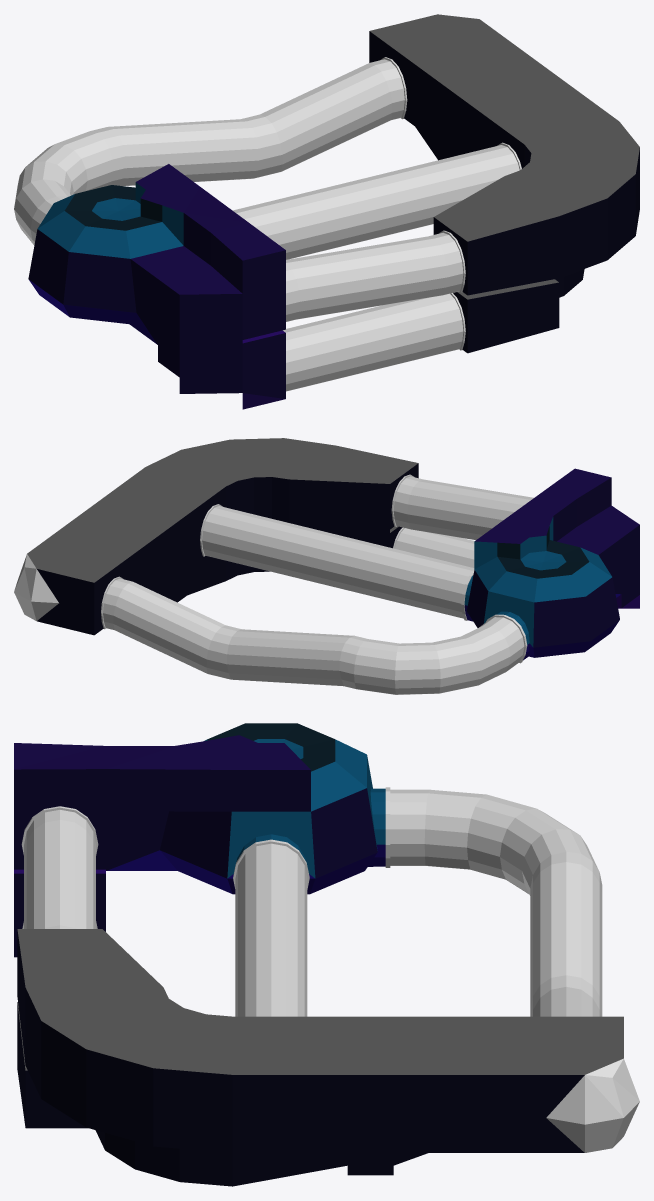
File: Underwater.fbx
The picture shows the model from 3 angles, top to bottom: view 1: azimuth 30°, elevation 25°; view 2: azimuth 150°, elevation 25°; view 3: azimuth 270°, elevation 25°; orthographic projection. The views are drawn at different scales.
Parts seen in each view (by area): view 1: Hallway, Main_room, Glass, Glass_4, Glass_3, Glass_2, Support, Support_4, Support_2, Support_3; view 2: Hallway, Main_room, Glass, Glass_4, Glass_2, Support, Support_4, Hallway_glass, Glass_3, Support_2, Support_3; view 3: Hallway, Main_room, Glass, Support, Glass_4, Hallway_glass, Support_4, Glass_2, Support_2.
Boxes of the visible parts, x1=… form: Hallway: x1=369, y1=14, x2=639, y2=353; Main_room: x1=28, y1=164, x2=285, y2=409; Glass: x1=14, y1=68, x2=404, y2=245; Glass_4: x1=244, y1=153, x2=519, y2=259; Glass_3: x1=286, y1=299, x2=463, y2=391; Glass_2: x1=286, y1=241, x2=463, y2=321; Support: x1=22, y1=59, x2=400, y2=244; Support_4: x1=233, y1=145, x2=512, y2=259; Support_2: x1=286, y1=232, x2=459, y2=321; Support_3: x1=283, y1=293, x2=459, y2=391; Hallway: x1=27, y1=438, x2=418, y2=635; Main_room: x1=464, y1=468, x2=639, y2=660; Glass: x1=103, y1=586, x2=524, y2=694; Glass_4: x1=202, y1=513, x2=467, y2=618; Glass_2: x1=393, y1=484, x2=523, y2=539; Support: x1=106, y1=578, x2=517, y2=694; Support_4: x1=206, y1=506, x2=474, y2=618; Hallway_glass: x1=14, y1=554, x2=58, y2=621; Glass_3: x1=395, y1=533, x2=474, y2=567; Support_2: x1=397, y1=476, x2=533, y2=539; Support_3: x1=401, y1=528, x2=474, y2=550; Hallway: x1=17, y1=929, x2=623, y2=1186; Main_room: x1=14, y1=723, x2=385, y2=957; Glass: x1=390, y1=802, x2=602, y2=1016; Support: x1=390, y1=789, x2=581, y2=1016; Glass_4: x1=235, y1=846, x2=307, y2=1016; Hallway_glass: x1=546, y1=1058, x2=639, y2=1152; Support_4: x1=256, y1=843, x2=286, y2=1016; Glass_2: x1=24, y1=812, x2=95, y2=928; Support_2: x1=45, y1=810, x2=74, y2=928.
Bounding box in the file's own units: 5400 × 1359 × 4080.
